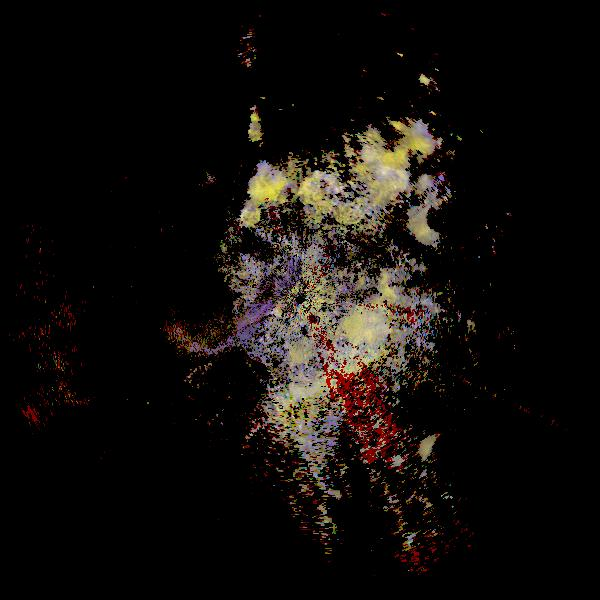roost: (320, 307, 392, 379), (413, 424, 476, 487), (407, 194, 461, 248)
